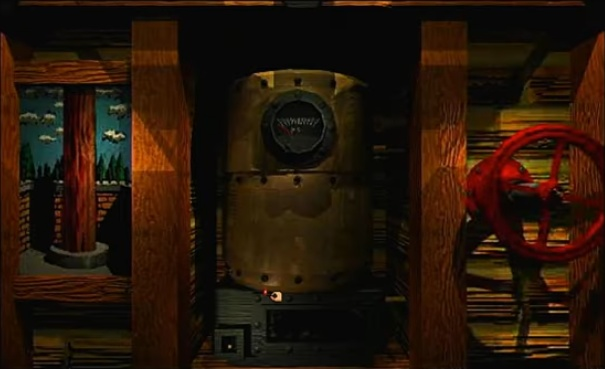Hold: (265, 287, 287, 305)
